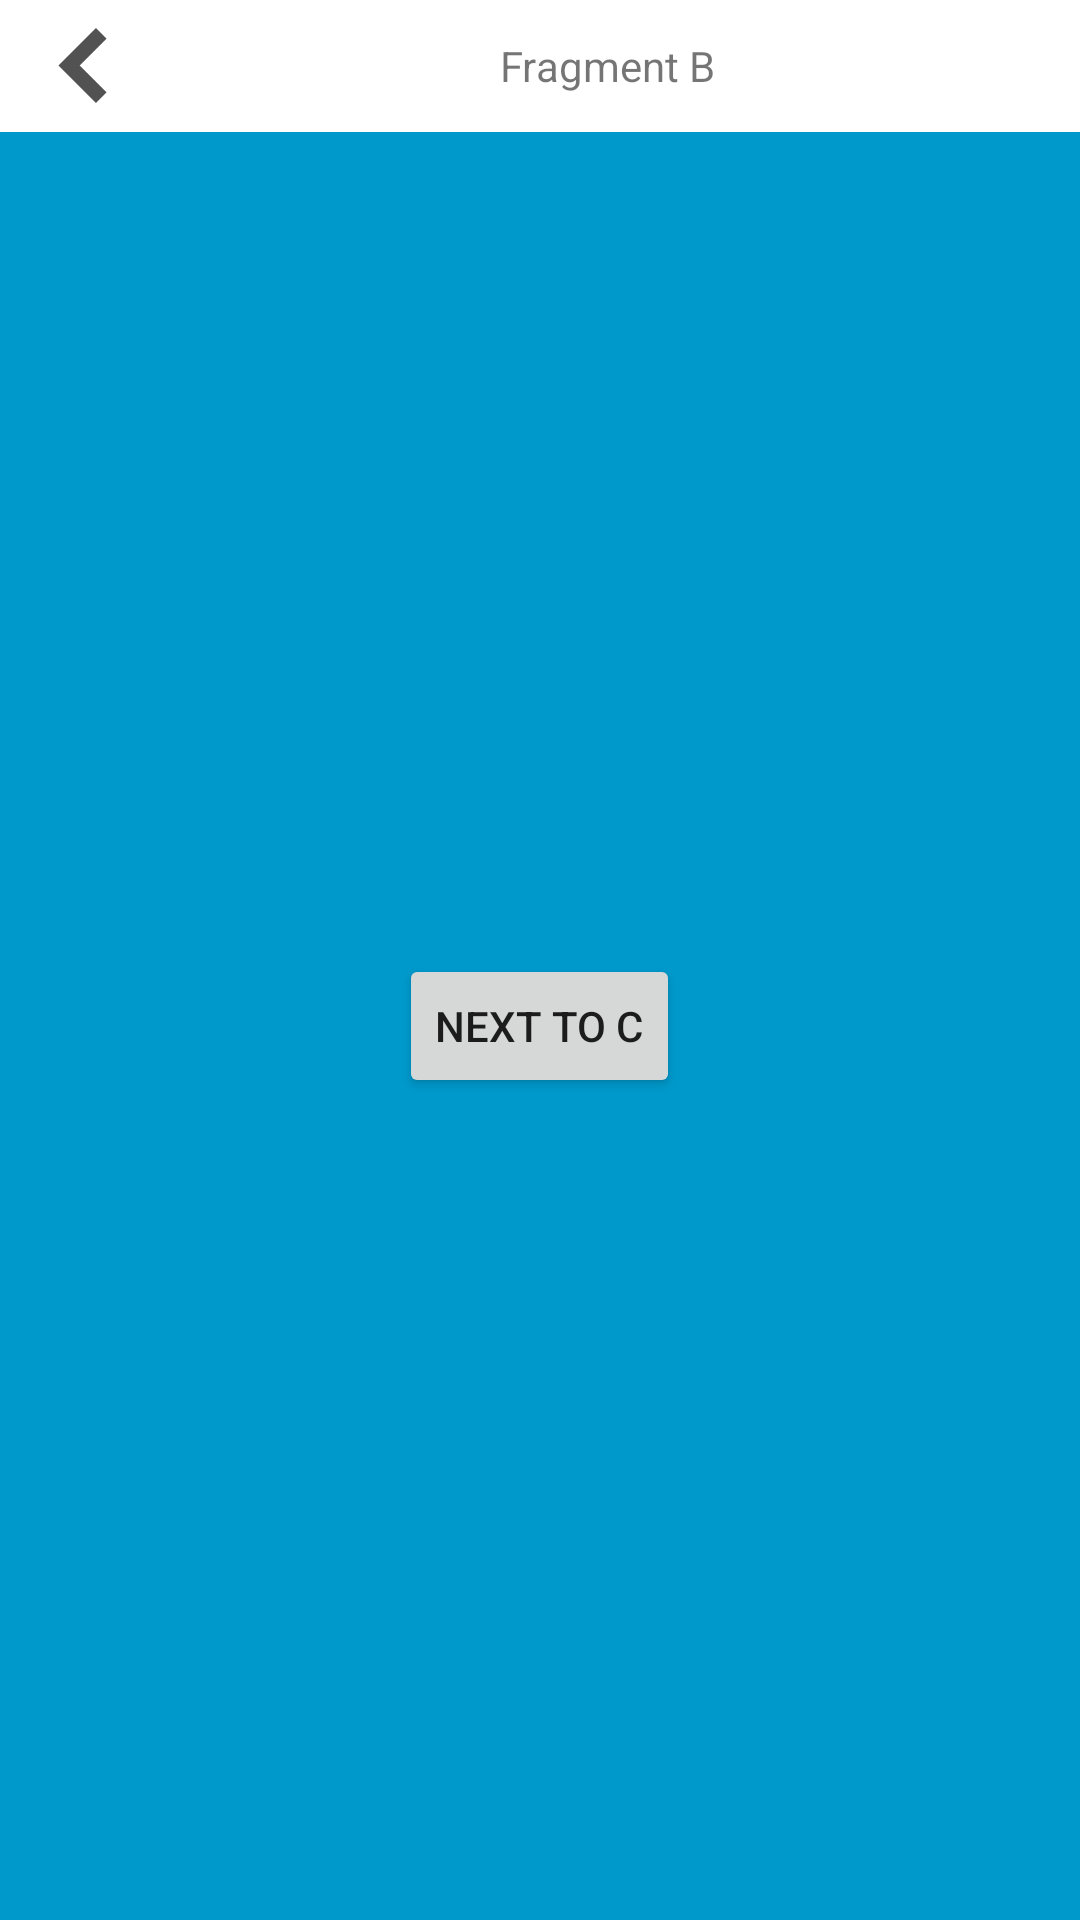

Point at icon controls on the screen. Image size 1080 x 1920, points as [x,y].
back: [82,65]
